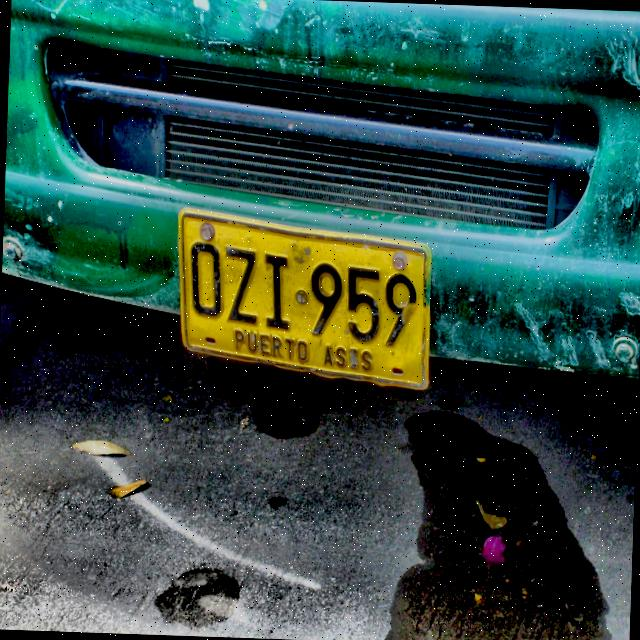5: (342, 260, 382, 346)
9: (381, 269, 420, 354), (306, 256, 346, 338)
I: (258, 245, 296, 332)
O: (187, 238, 224, 323)
Z: (222, 244, 260, 328)
